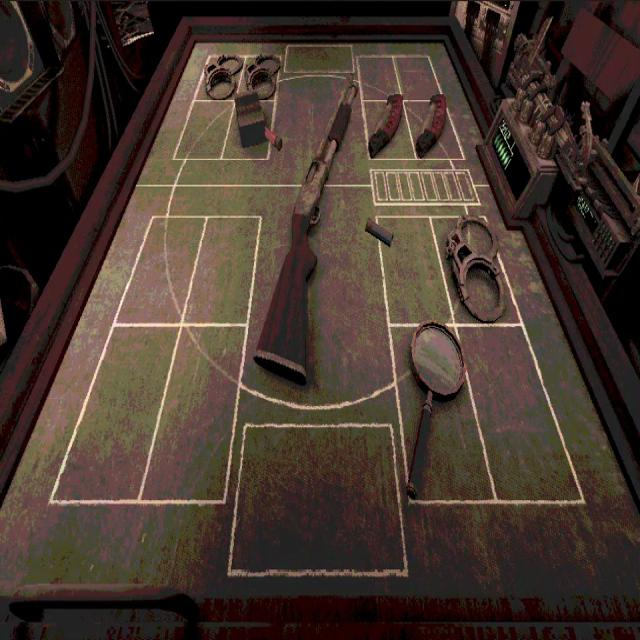ally: (0, 176, 638, 617)
cigar: (235, 92, 267, 146)
doubledamage: (414, 94, 446, 156), (369, 95, 402, 153)
emptyspace: (49, 324, 179, 507), (458, 323, 586, 500), (139, 328, 244, 503), (112, 216, 206, 324), (180, 214, 259, 328), (377, 216, 455, 324), (176, 98, 231, 158), (359, 54, 398, 104), (398, 54, 439, 98)
enemyspace: (133, 35, 501, 178)
gun: (255, 80, 357, 388)
handcuff: (447, 215, 505, 321), (205, 56, 244, 99), (245, 51, 281, 92)
lens: (406, 322, 465, 496)
